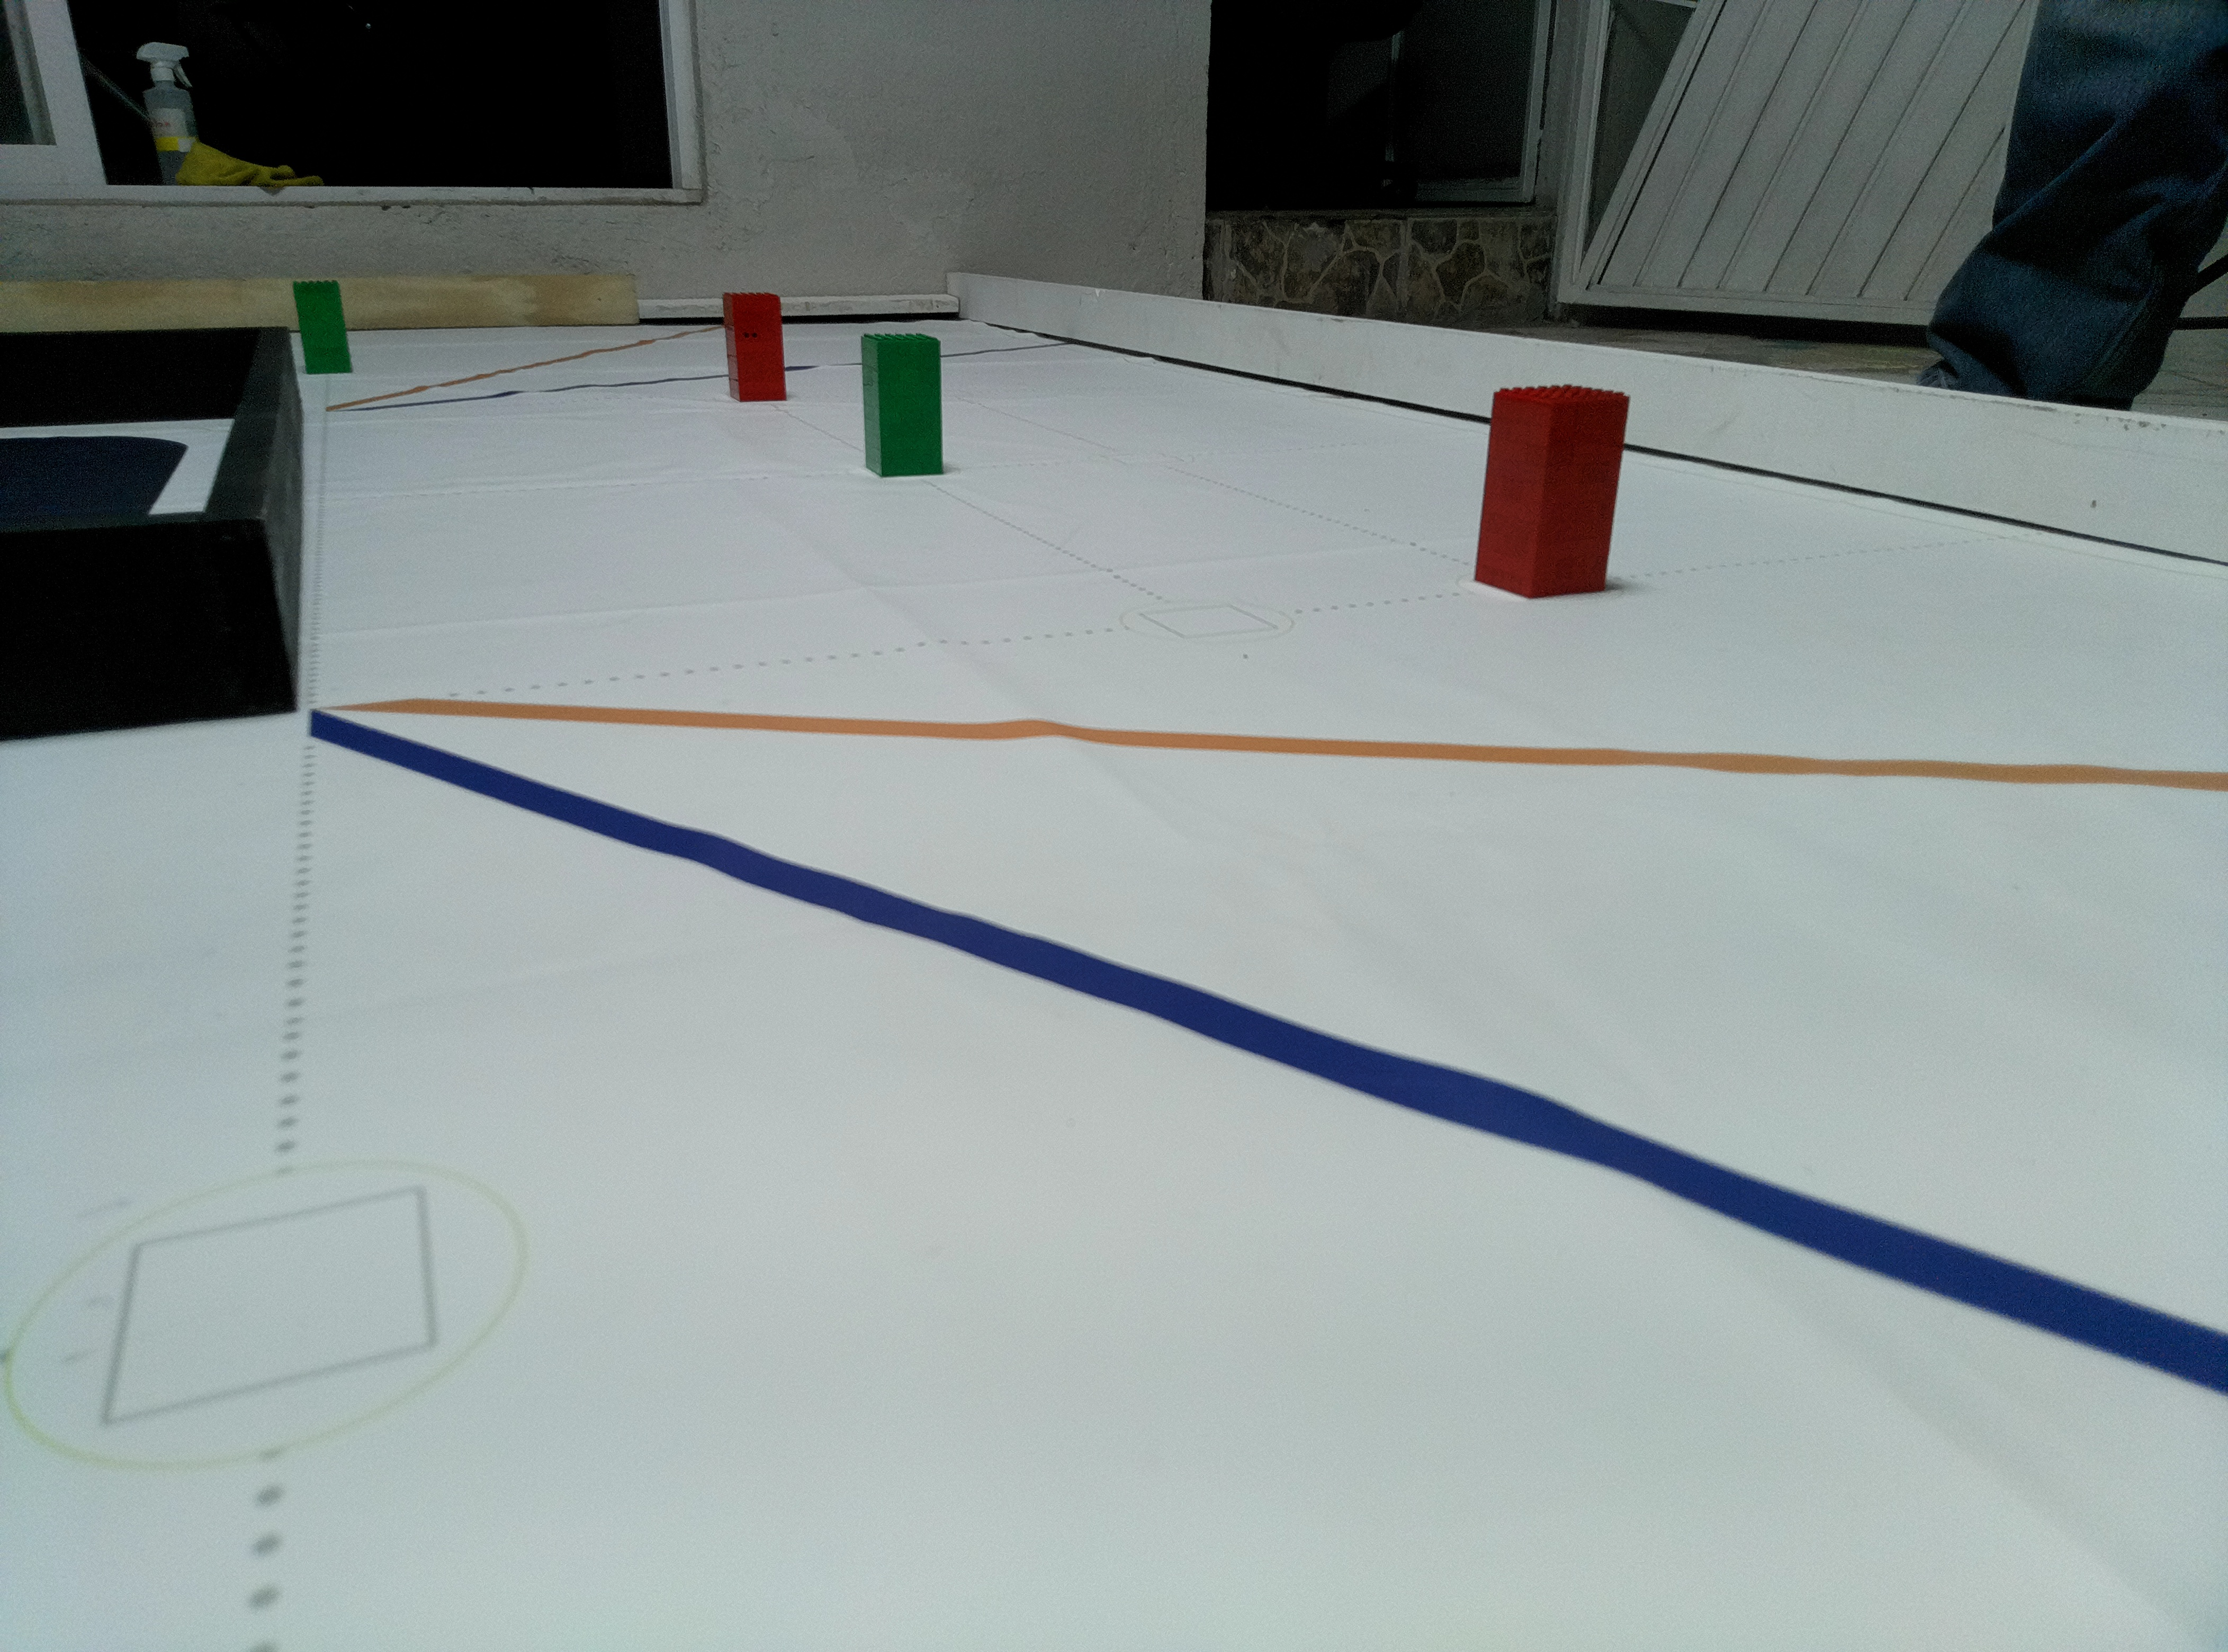greenbox: (860, 324, 943, 478), (284, 274, 357, 379)
redbox: (1476, 370, 1633, 610), (715, 284, 792, 401)
